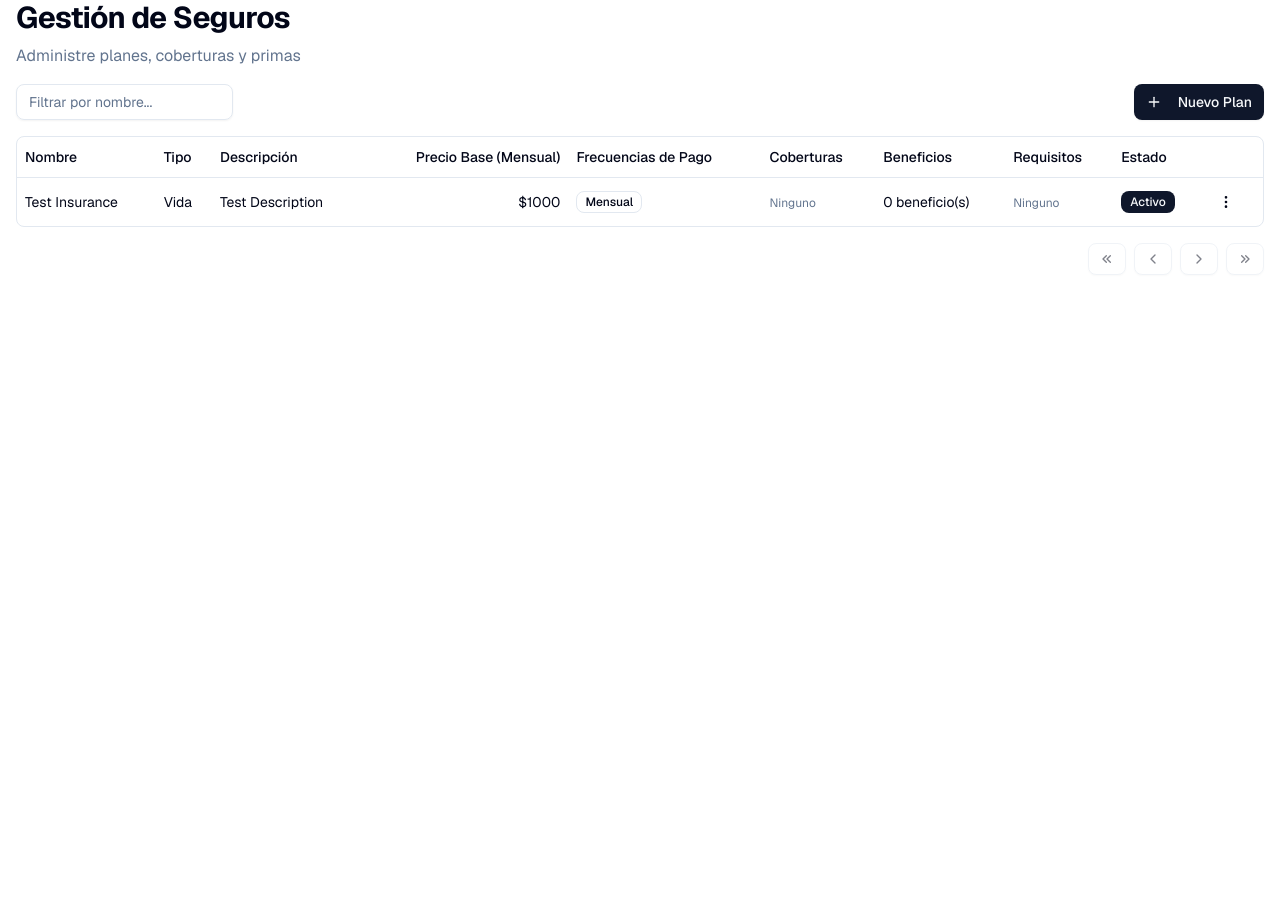
Insurance Management Flow Integration Tests › Form Validation Tests › should show validation errors for required fields
Note: Hacer clic en el botón de crear nuevo seguro
What coordinates should you click on to do the following:
click the button "Nuevo Plan"
I would click on:
 (1199, 102)
Its box is top-left (1134, 84), bottom-right (1264, 120).
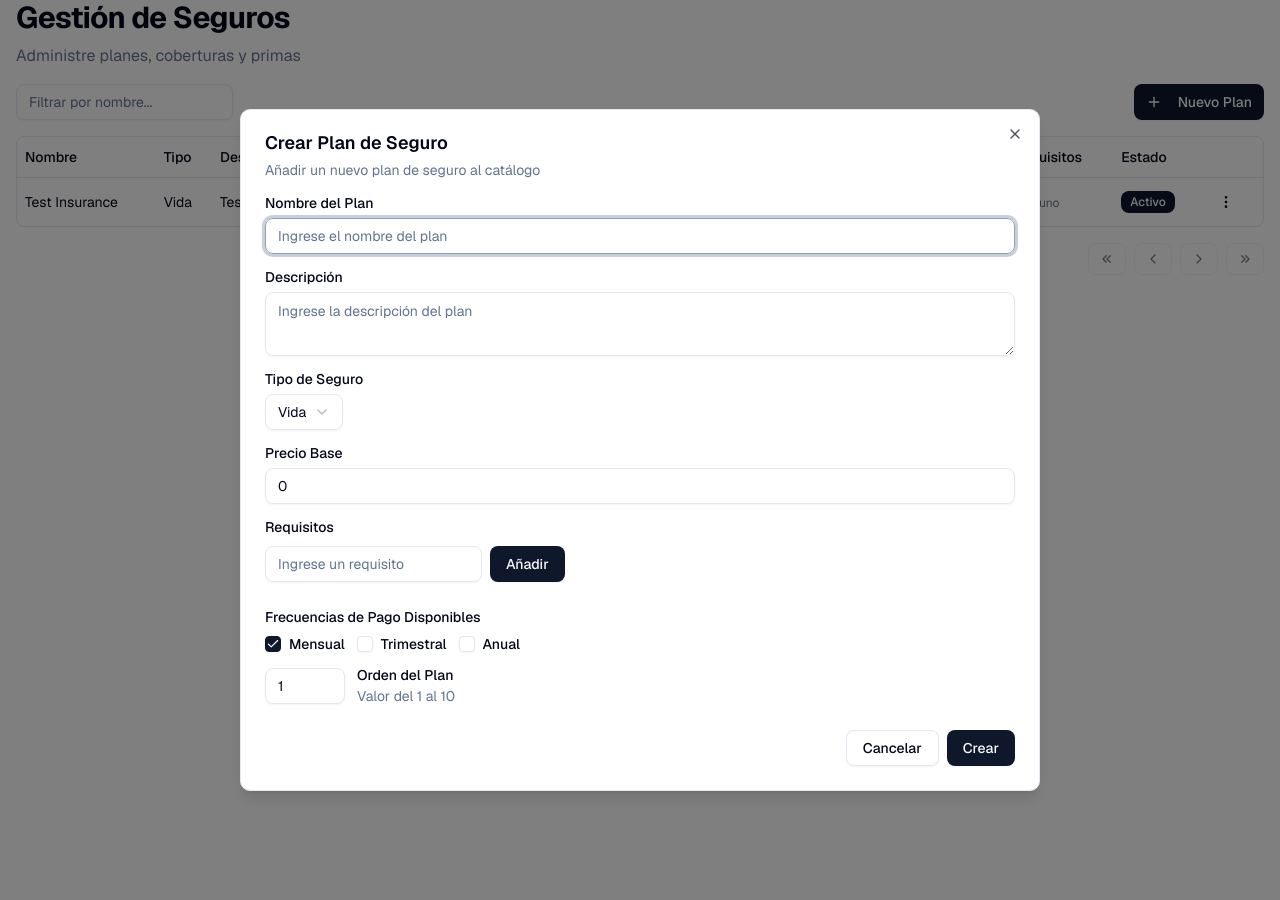
Expected: the heading "Crear Plan de Seguro" is shown, top-left (265, 131), bottom-right (448, 154)
Note: Intentar enviar el formulario sin datos
What coordinates should you click on to do the following:
click the button "Crear"
I would click on:
 (981, 748)
Its box is top-left (947, 730), bottom-right (1015, 766).
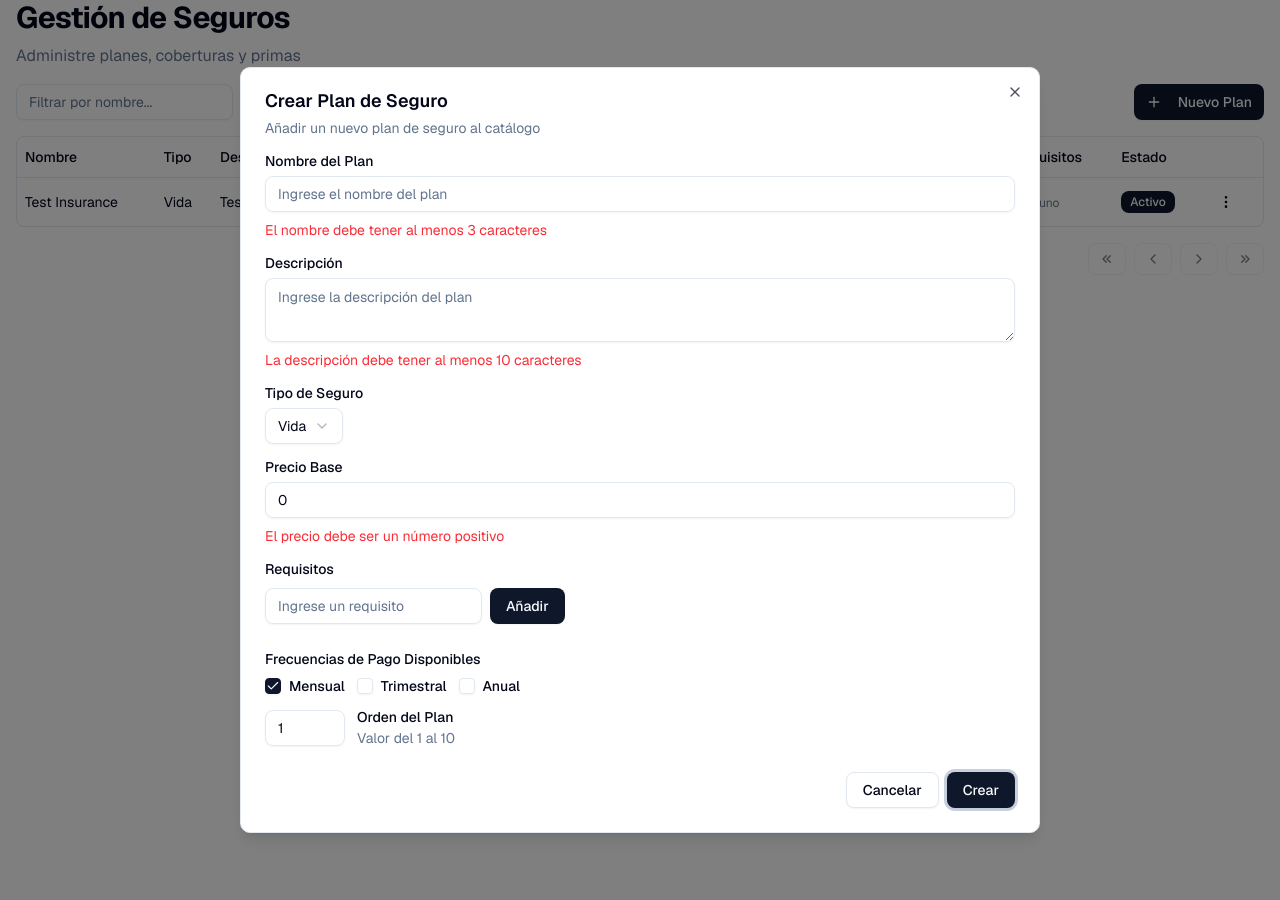
Expected: the text "El nombre debe tener al menos 3 caracteres" is shown, top-left (265, 221), bottom-right (547, 239)
Expected: the text "La descripción debe tener al menos 10 caracteres" is shown, top-left (265, 351), bottom-right (582, 369)
